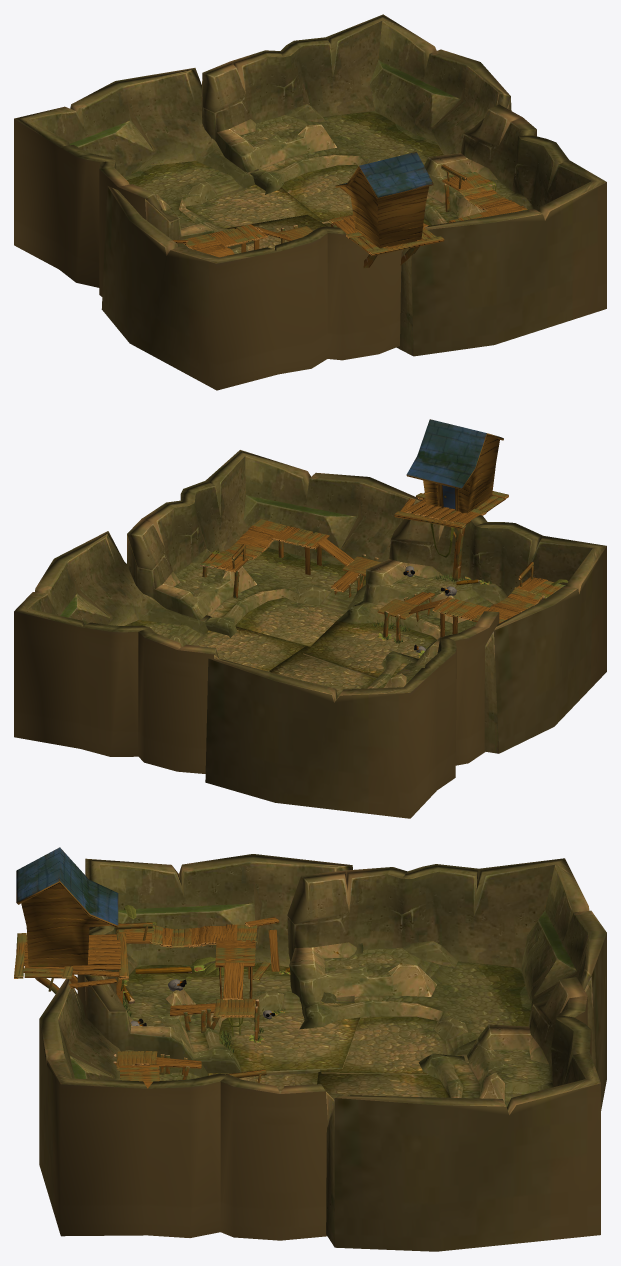
File: MyGameStage200.fbx
3 views of the same model, one above another, from view 1: azimuth 30°, elevation 25°; view 2: azimuth 150°, elevation 25°; view 3: azimuth 270°, elevation 25° (orthographic). The views are drawn at different scales.
Visible parts, largest first — view 1: polySurface616; view 2: polySurface616; view 3: polySurface616.
Boxes of the visible parts, bbox=[...] form: polySurface616: bbox=[14, 14, 606, 390]; polySurface616: bbox=[14, 419, 606, 818]; polySurface616: bbox=[14, 847, 606, 1251].
Bounding box in the file's own units: 353 × 161 × 354.
